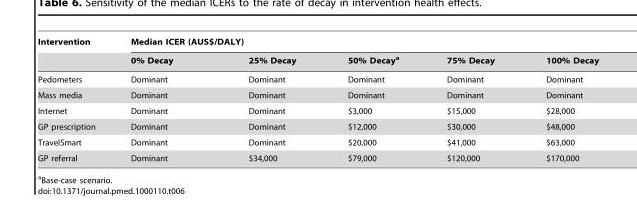table: (37, 37, 598, 162)
table column: (210, 37, 321, 162), (321, 37, 422, 162), (112, 37, 210, 162), (422, 37, 519, 162), (519, 37, 598, 162), (37, 37, 112, 162)
table column header: (37, 37, 598, 69)
table row: (37, 50, 598, 69), (37, 69, 598, 87), (37, 102, 598, 118), (37, 118, 598, 134), (37, 134, 598, 150), (37, 87, 598, 102), (37, 37, 598, 50), (37, 150, 598, 162)
table spanning cell: (112, 37, 598, 50), (37, 37, 112, 69)
